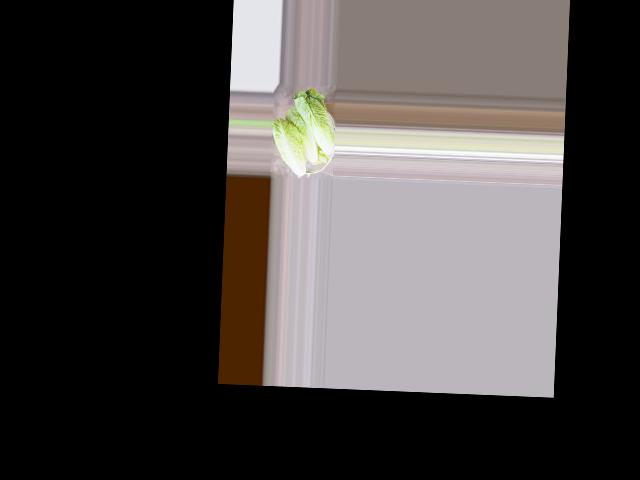lettuce: (290, 90, 337, 163)
